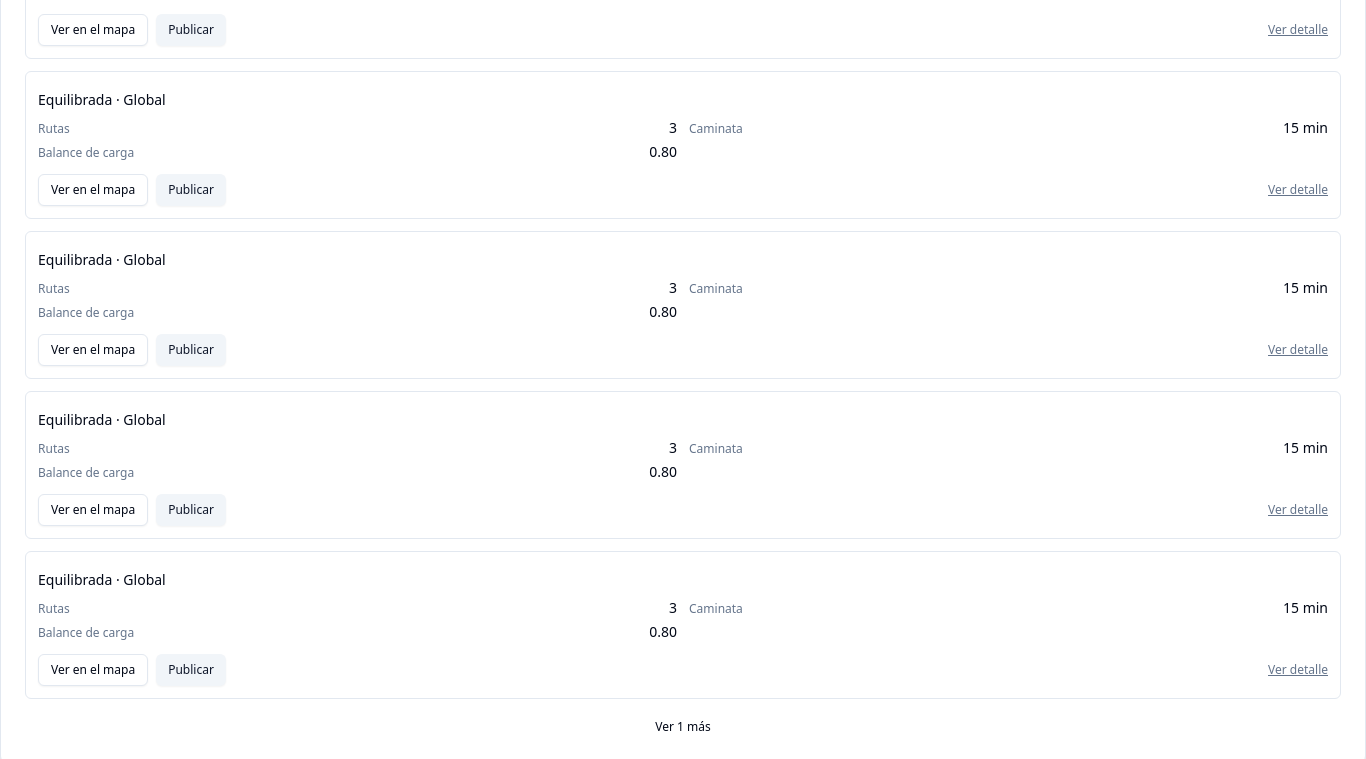
Test case: SolutionCandidatesList › hides candidates beyond the first six behind a toggle
(page scrolled)
Click the button "Ver 1 más" at [683, 727], box [25,711,1341,743]
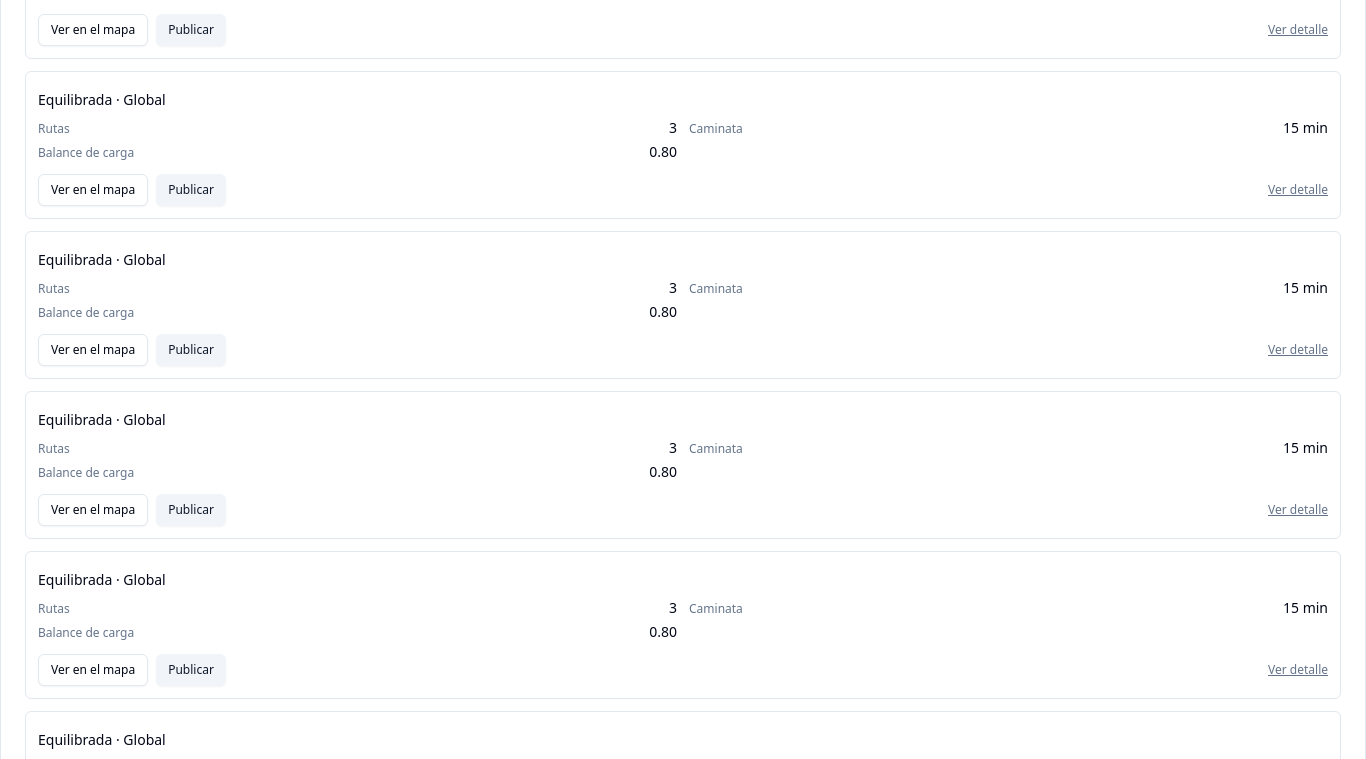
Check: the text "Ver en el mapa" is shown 7 times
